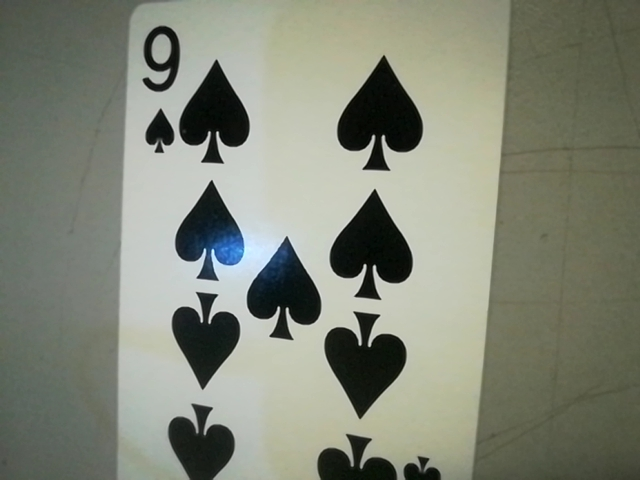ht 9: (126, 14, 190, 162)
